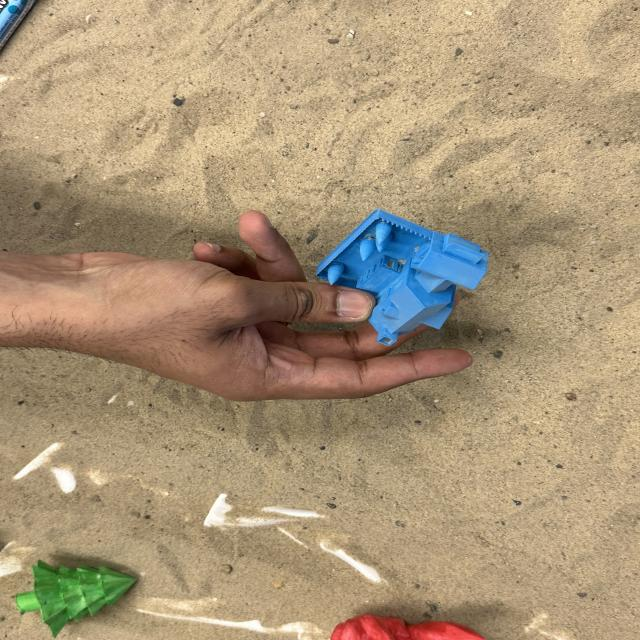house: (314, 208, 489, 347)
tree: (13, 558, 138, 638)
